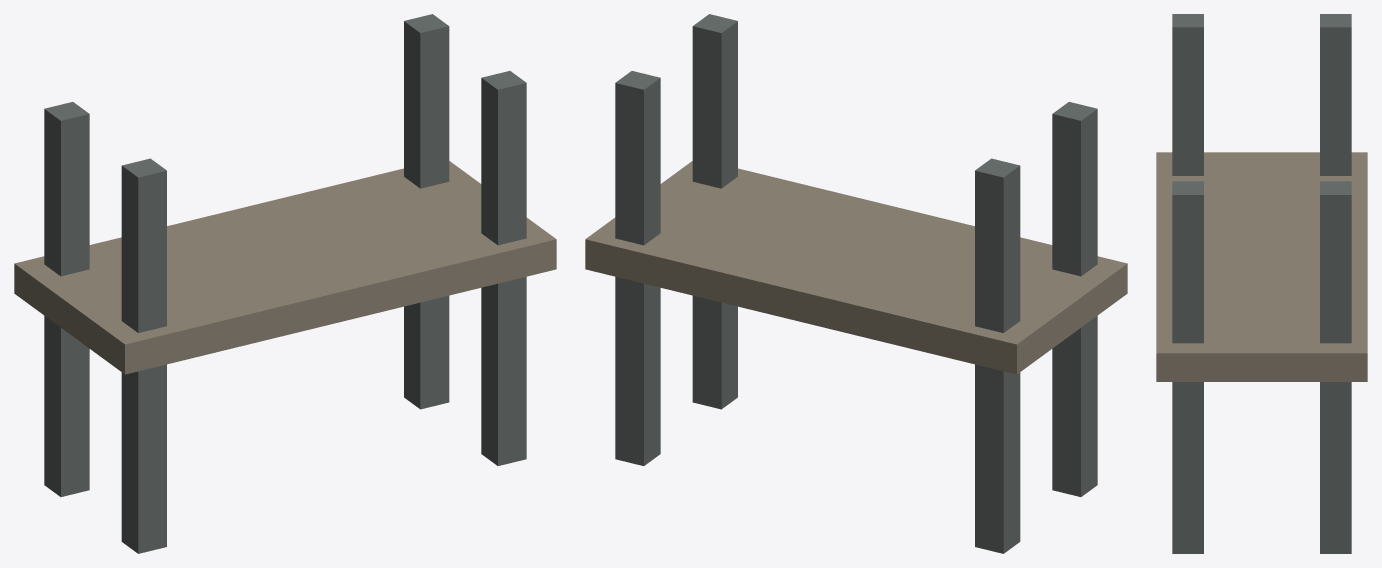
The model's file is office_desk.glb.
The picture shows the model from 3 angles, left to right: view 1: azimuth 30°, elevation 25°; view 2: azimuth 150°, elevation 25°; view 3: azimuth 270°, elevation 25°; orthographic projection. The views are drawn at different scales.
Parts seen in each view (by area): view 1: top_0, leg_4, leg_3, leg_1, leg_2; view 2: top_0, leg_2, leg_1, leg_3, leg_4; view 3: top_0, leg_2, leg_4, leg_1, leg_3.
Boxes of the visible parts, x1=… form: top_0: x1=14, y1=161, x2=556, y2=374; leg_4: x1=481, y1=71, x2=526, y2=465; leg_3: x1=121, y1=158, x2=166, y2=553; leg_1: x1=44, y1=102, x2=89, y2=496; leg_2: x1=404, y1=14, x2=449, y2=409; top_0: x1=585, y1=161, x2=1127, y2=374; leg_2: x1=615, y1=71, x2=660, y2=465; leg_1: x1=975, y1=158, x2=1020, y2=553; leg_3: x1=1052, y1=102, x2=1097, y2=496; leg_4: x1=692, y1=14, x2=737, y2=409; top_0: x1=1156, y1=152, x2=1367, y2=381; leg_2: x1=1320, y1=181, x2=1351, y2=553; leg_4: x1=1172, y1=181, x2=1203, y2=553; leg_1: x1=1320, y1=14, x2=1351, y2=175; leg_3: x1=1172, y1=14, x2=1203, y2=175.
Bounding box in the file's own units: 1.8 × 1.5 × 0.8.
